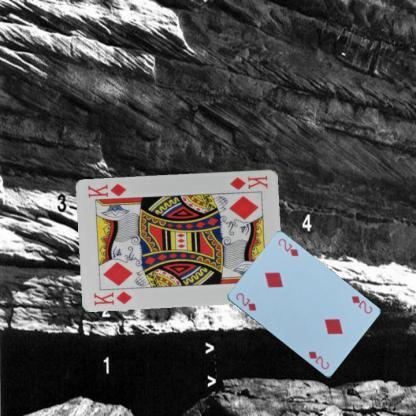2d: (233, 290, 258, 312), (349, 293, 374, 315)
Kd: (228, 172, 270, 190), (92, 288, 134, 306)
